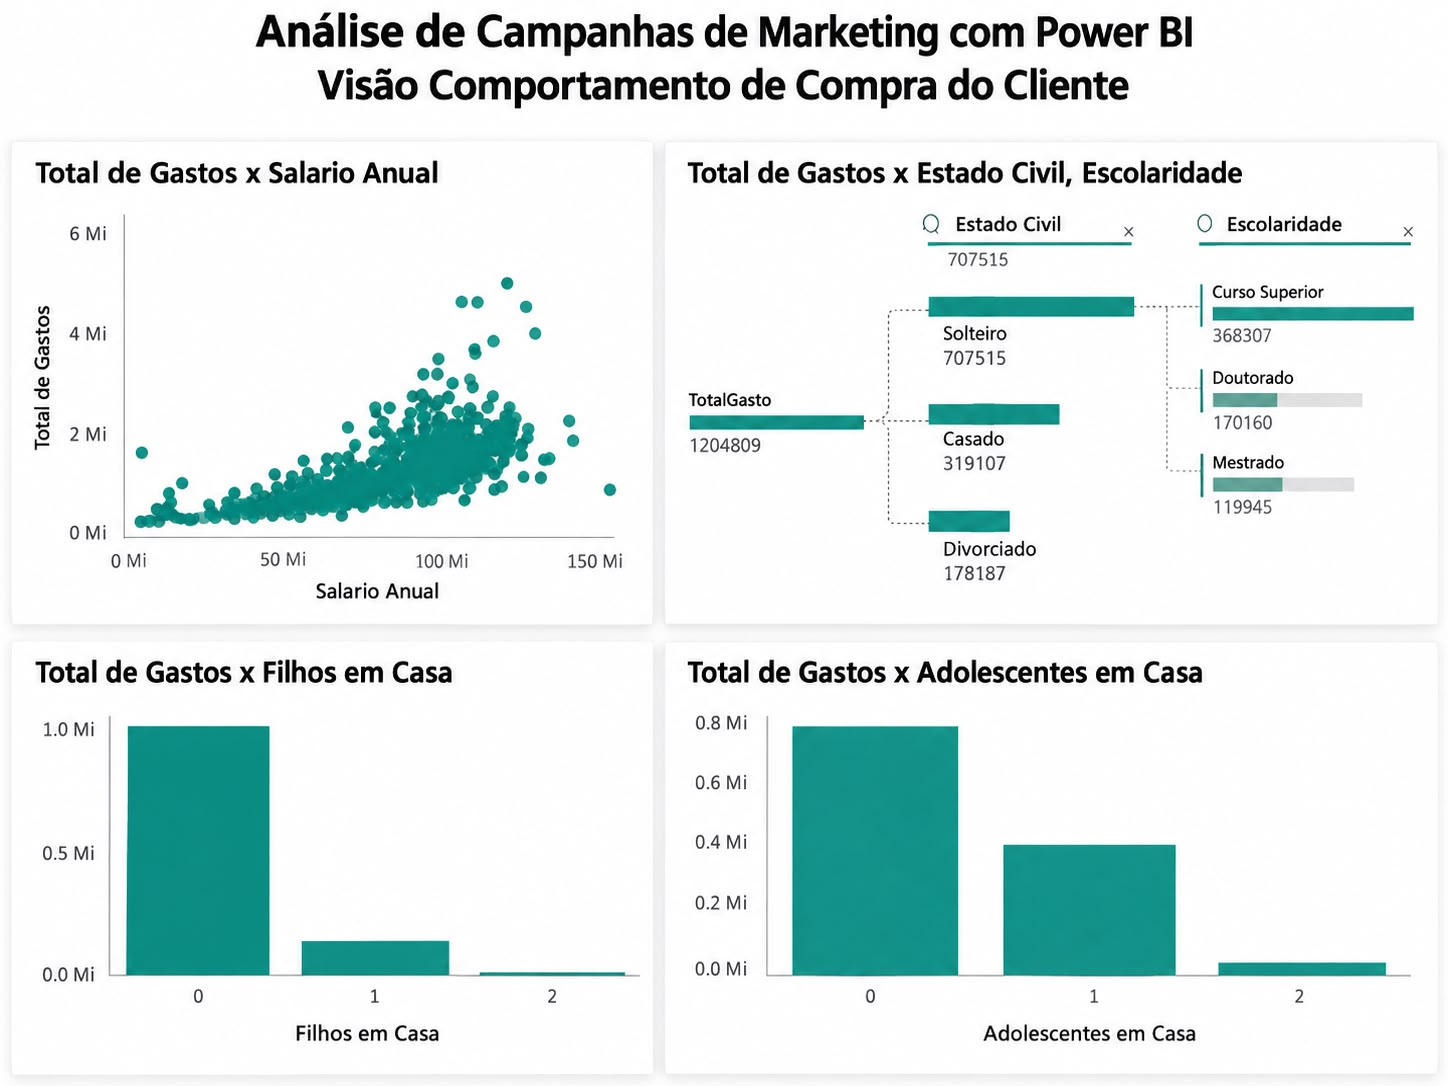

This screenshot's page, from the dashboard's own definition file:
{"tool":"powerbi","page":{"name":"Visão Comportamento","canvas":[1280,720],"ordinal":1},"visuals":[{"type":"scatterChart","title":"Total de Gastos x Salario Anual","fields":{"X":["DadosMarketing.Salario Anual"],"Y":["DadosMarketing.TotalGasto"]},"box":[11,90.4,624.7,284.9],"z":0},{"type":"textbox","box":[0,0,1271.9,88.1],"z":1000},{"type":"clusteredColumnChart","title":"Total de Gastos x Filhos em Casa","fields":{"Category":["DadosMarketing.Filhos em Casa"],"Y":["DadosMarketing.TotalGasto"]},"box":[0,401.4,635.6,308.2],"z":2000},{"type":"clusteredColumnChart","title":"Total de Gastos x Adolescentes em Casa","fields":{"Category":["DadosMarketing.Adolescentes em Casa"],"Y":["DadosMarketing.TotalGasto"]},"box":[654.8,401.4,616.4,308.2],"z":3000},{"type":"decompositionTreeVisual","fields":{"Analyze":["DadosMarketing.TotalGasto"],"ExplainBy":["DadosMarketing.Estado Civil","DadosMarketing.Escolaridade"]},"box":[654.8,90.4,616.4,284.9],"z":4000}]}

Visuals, with their boxes on the page's 1280x720 design canvas (x1, y1, x2, y2). These are canvas units, not pixel positions in the 1448x1086 screenshot, which may show the page scaled, cropped or inside an application window:
"Total de Gastos x Salario Anual" scatterChart: pyautogui.locateOnScreen(11, 90, 636, 375)
textbox: pyautogui.locateOnScreen(0, 0, 1272, 88)
"Total de Gastos x Filhos em Casa" clusteredColumnChart: pyautogui.locateOnScreen(0, 401, 636, 710)
"Total de Gastos x Adolescentes em Casa" clusteredColumnChart: pyautogui.locateOnScreen(655, 401, 1271, 710)
decompositionTreeVisual - DadosMarketing.TotalGasto x DadosMarketing.Estado Civil: pyautogui.locateOnScreen(655, 90, 1271, 375)
